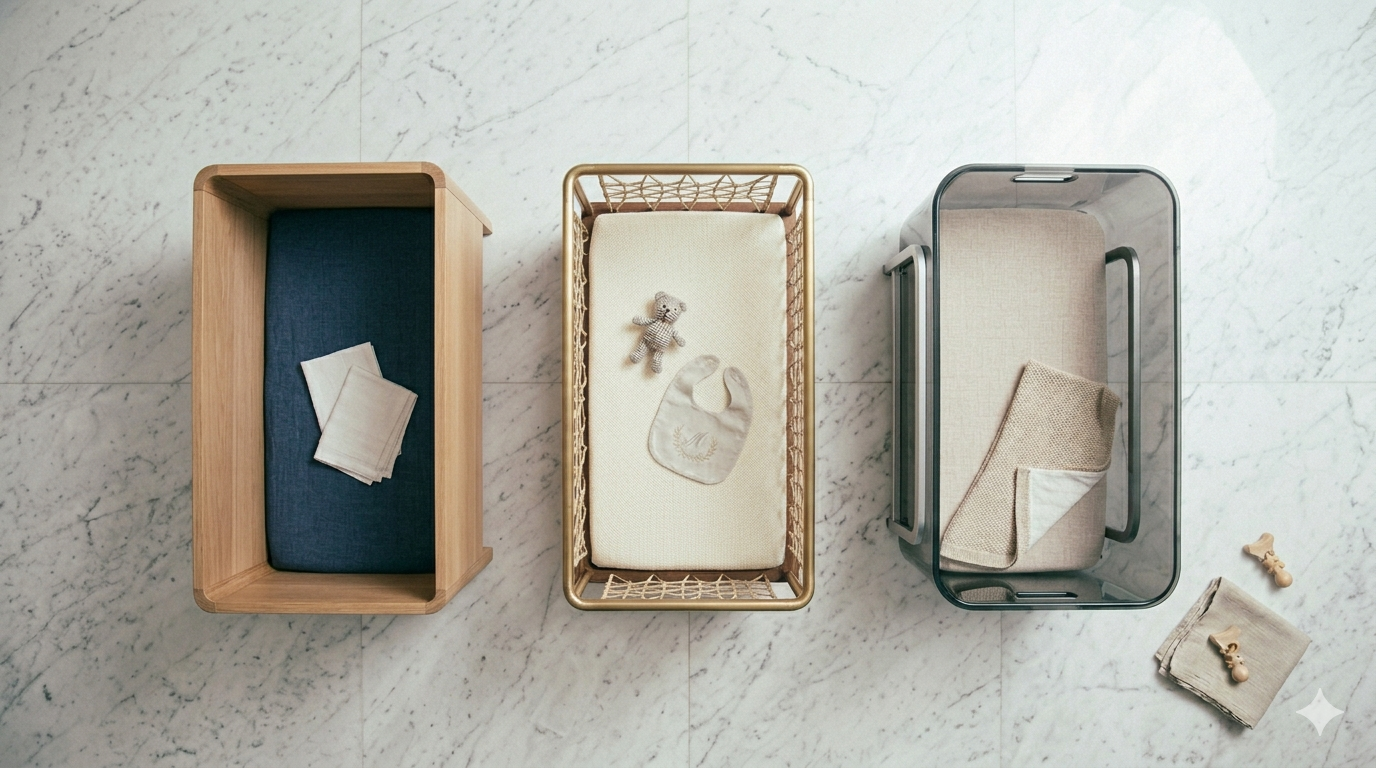crib: (192, 163, 491, 613), (885, 165, 1179, 609), (563, 164, 813, 609)
